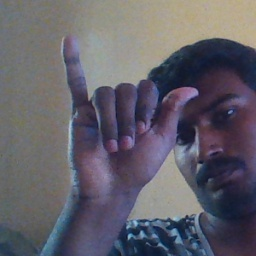J: (48, 33, 199, 189)
